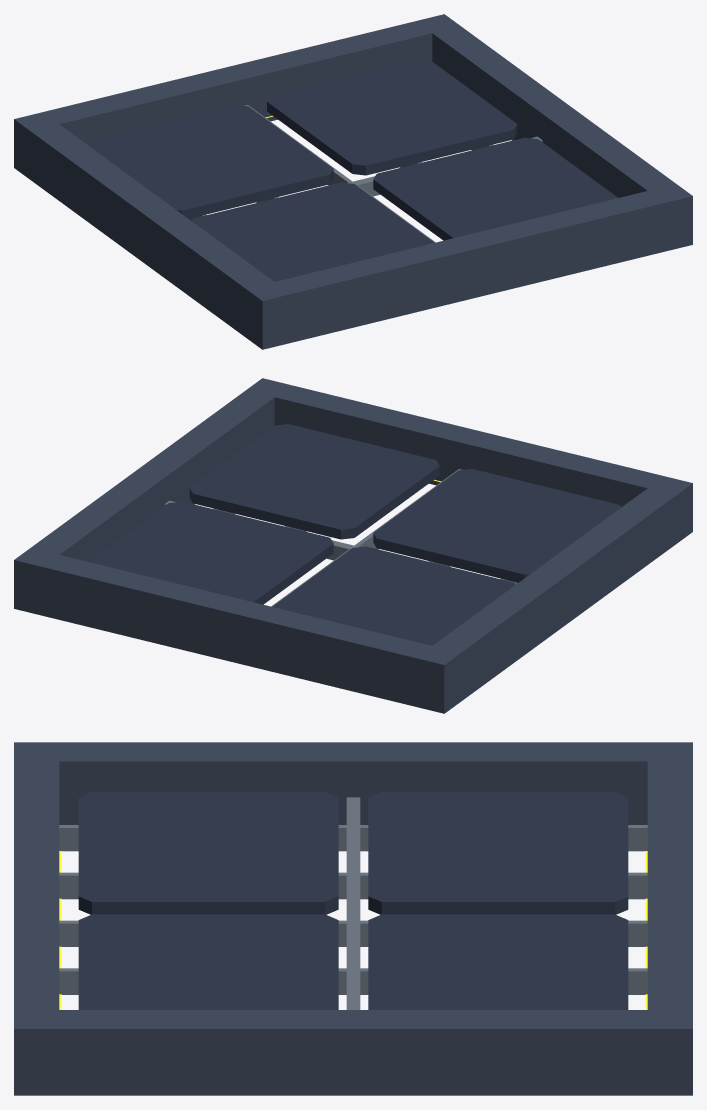
Rendered from fus_ceiling_coffer_bay.glb.
3 renders of one model, top to bottom at view 1: azimuth 30°, elevation 25°; view 2: azimuth 150°, elevation 25°; view 3: azimuth 270°, elevation 25°, orthographic. The views are drawn at different scales.
Visible parts, largest first — view 1: coffer_end, recessed_light_case, acoustic_fin; view 2: coffer_end, recessed_light_case, acoustic_fin; view 3: coffer_end, recessed_light_case, acoustic_fin.
Part boxes in pixels (x1,y1,x2,y2): coffer_end: (14,14,692,349); recessed_light_case: (85,60,617,281); acoustic_fin: (189,105,542,242); coffer_end: (14,378,692,713); recessed_light_case: (89,424,621,645); acoustic_fin: (164,469,517,606); coffer_end: (14,742,692,1095); recessed_light_case: (78,792,628,1009); acoustic_fin: (59,797,647,1009).
Bounding box in the file's own units: 6 × 0.65 × 6.
